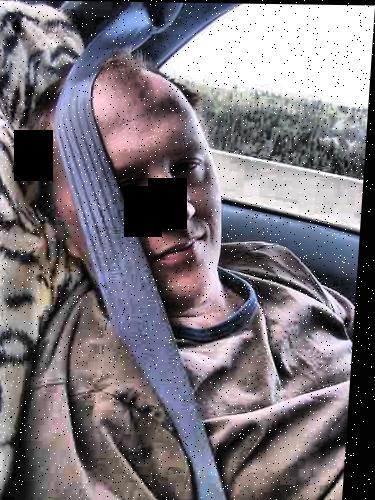seatbelt: (34, 8, 277, 494)
